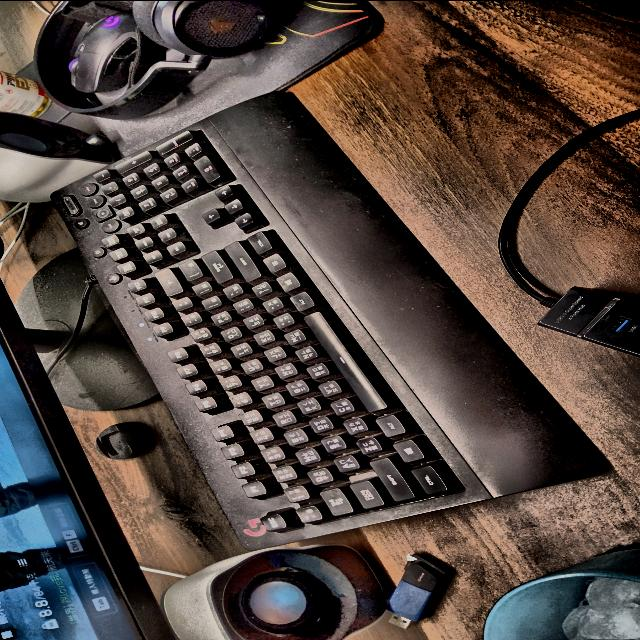Keyboard: (52, 90, 610, 549)
MOUSE: (69, 11, 138, 92)
Screen: (0, 281, 173, 640)
